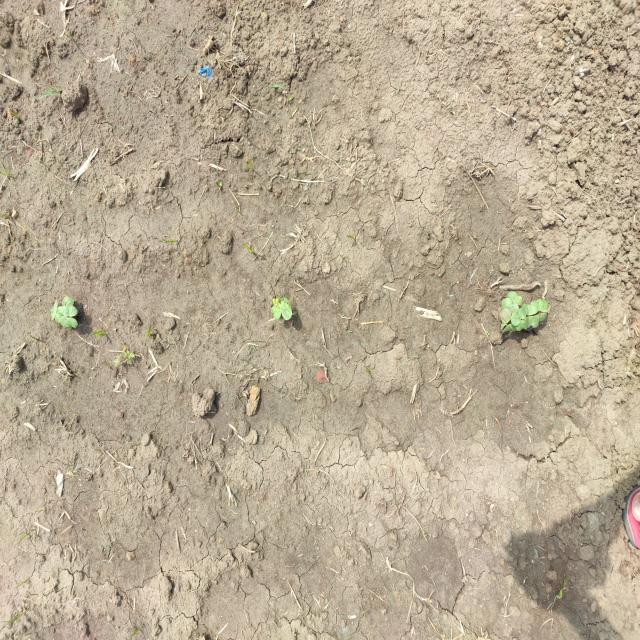seedling_s1: (511, 307, 526, 326), (280, 297, 292, 320), (502, 298, 519, 314), (530, 299, 548, 313), (499, 308, 511, 329), (514, 316, 529, 331), (60, 316, 78, 328), (508, 291, 522, 305), (63, 305, 78, 317), (522, 304, 538, 315), (500, 324, 516, 335), (527, 316, 539, 329), (55, 306, 64, 322), (61, 296, 74, 306), (274, 304, 282, 320), (271, 299, 280, 313), (51, 300, 57, 320), (535, 312, 547, 322)
